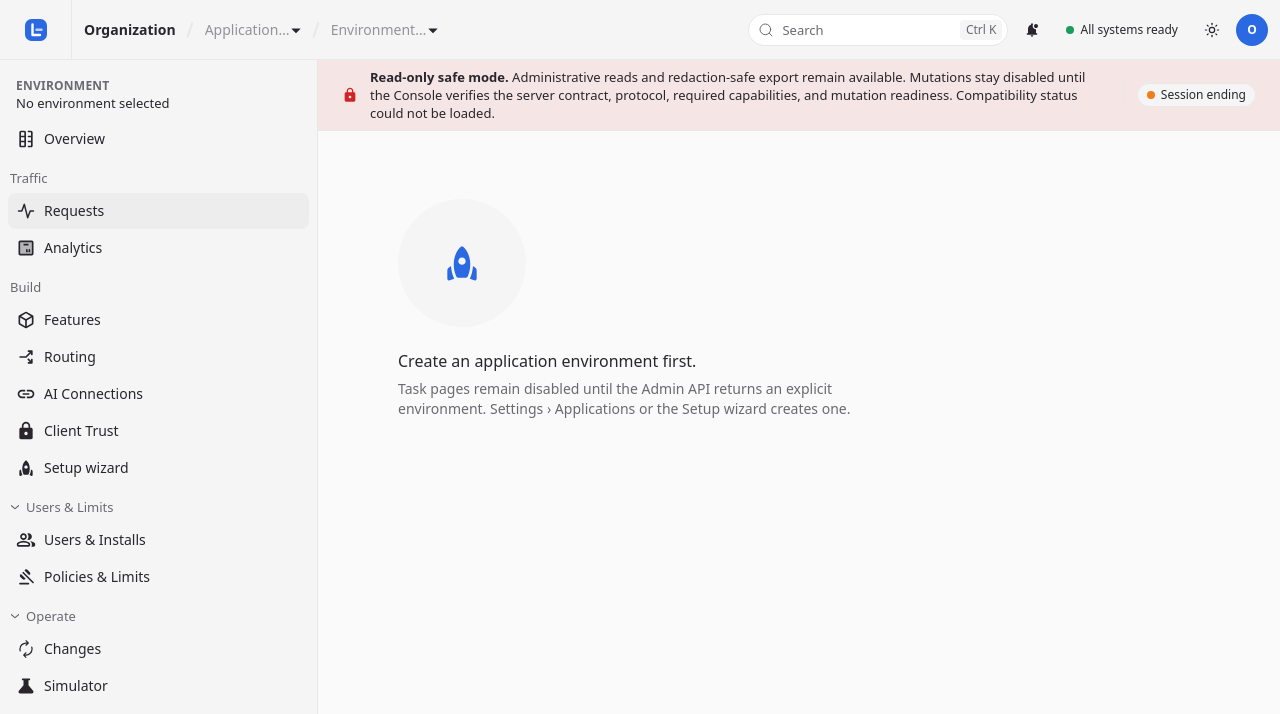
Test case: AppShell › opens the command palette with every destination and returns focus when it closes
Click the button with aria-label "Search or jump": (803, 30) [748,14,1008,46]
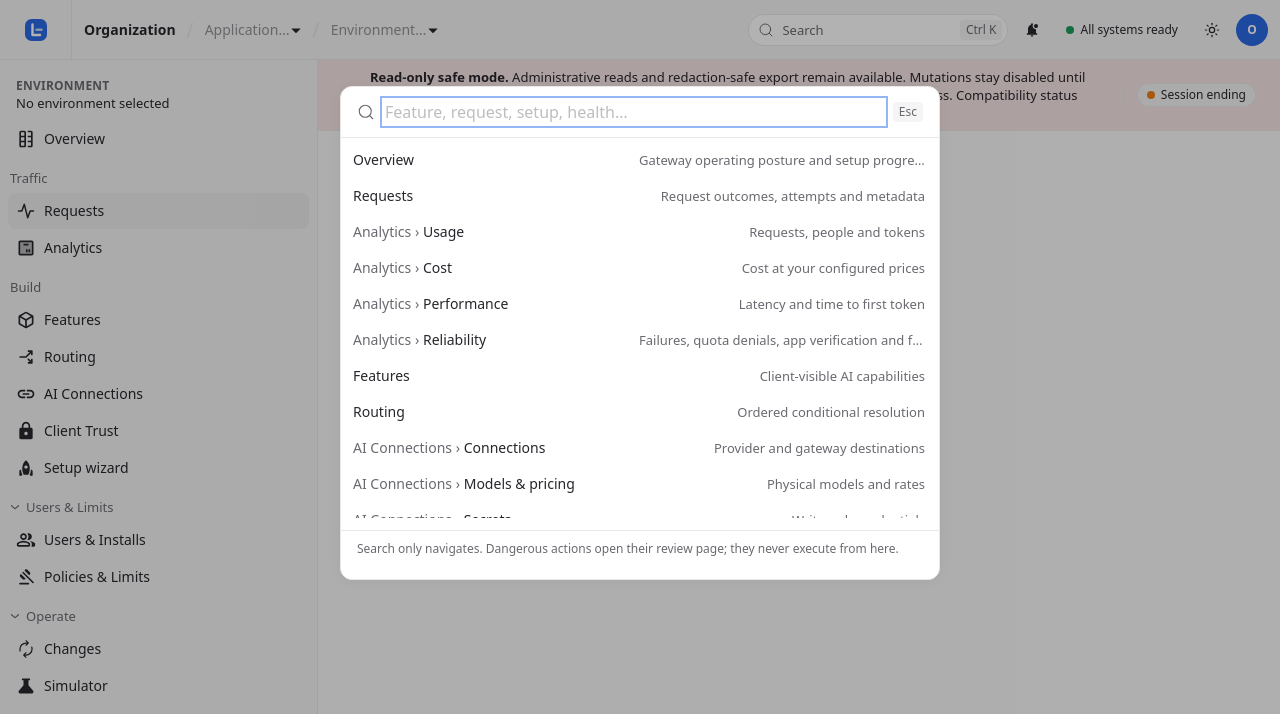
In the field with placeholder "Feature, request, setup, health…": (634, 112) [383,99,885,125], type "secrets"
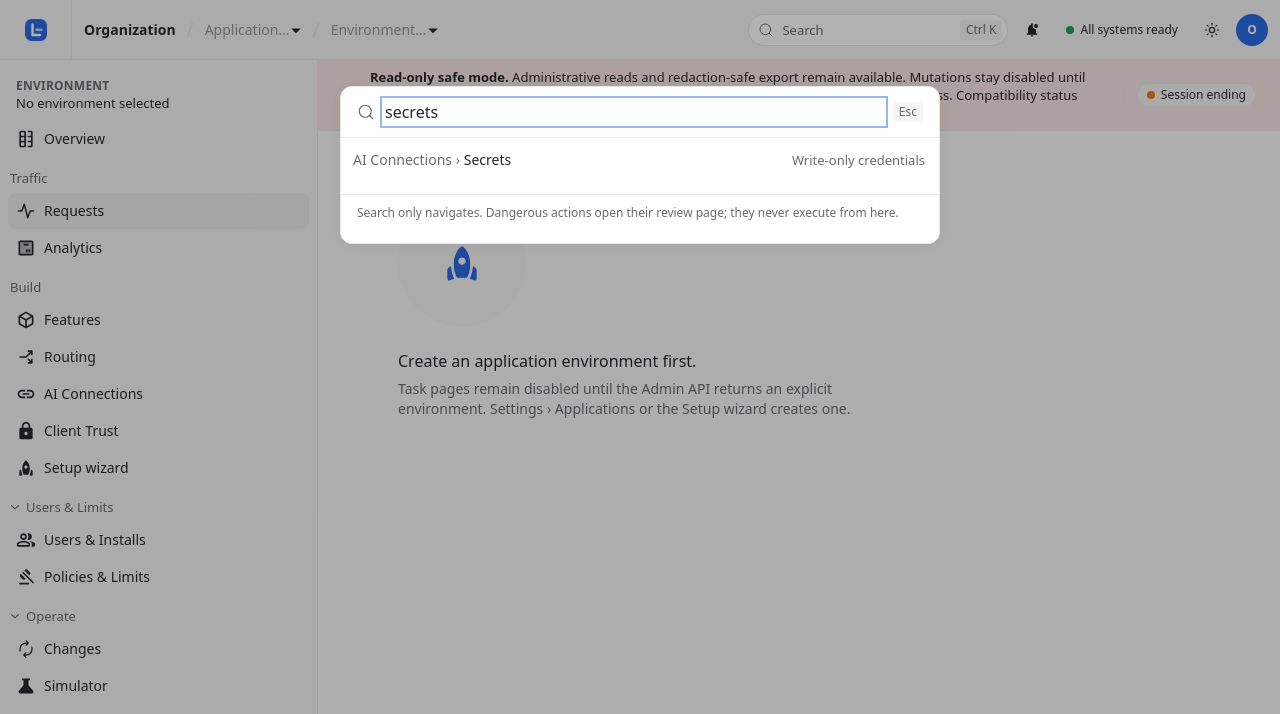
Press Escape
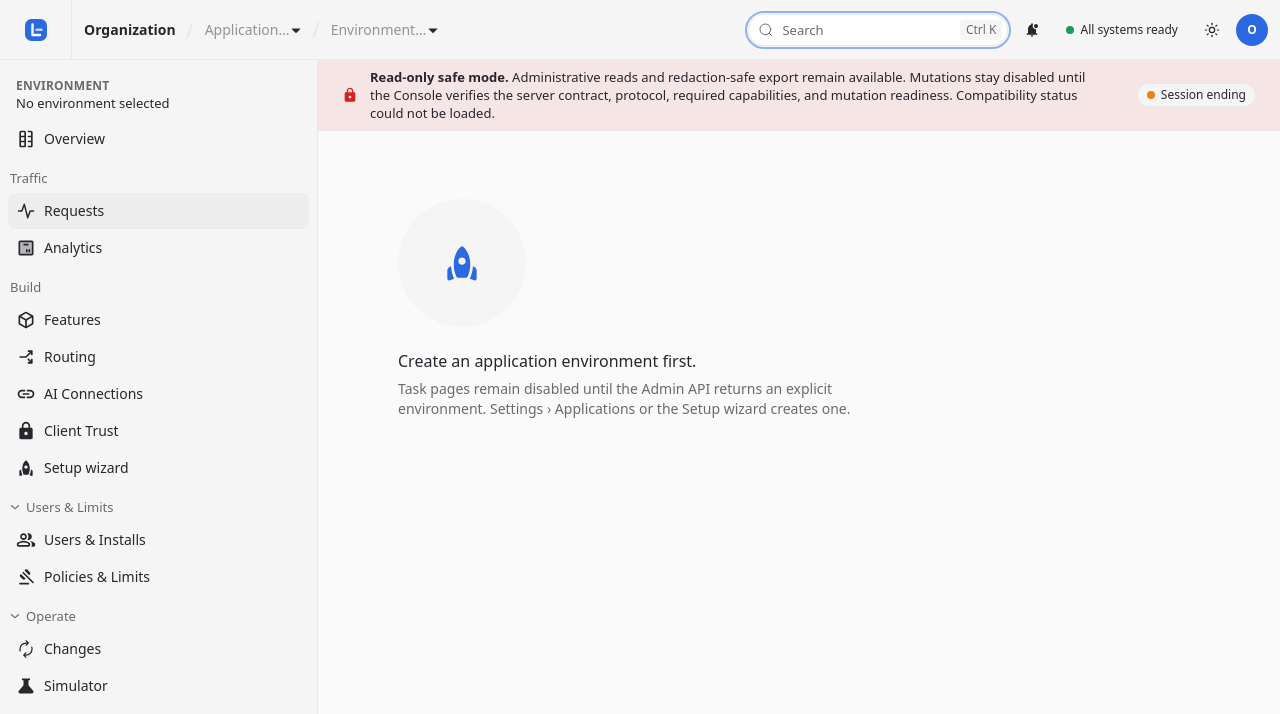
Now the dialog is gone
